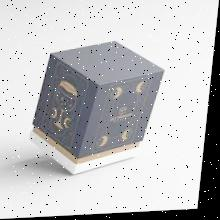cube: (31, 40, 168, 180)
